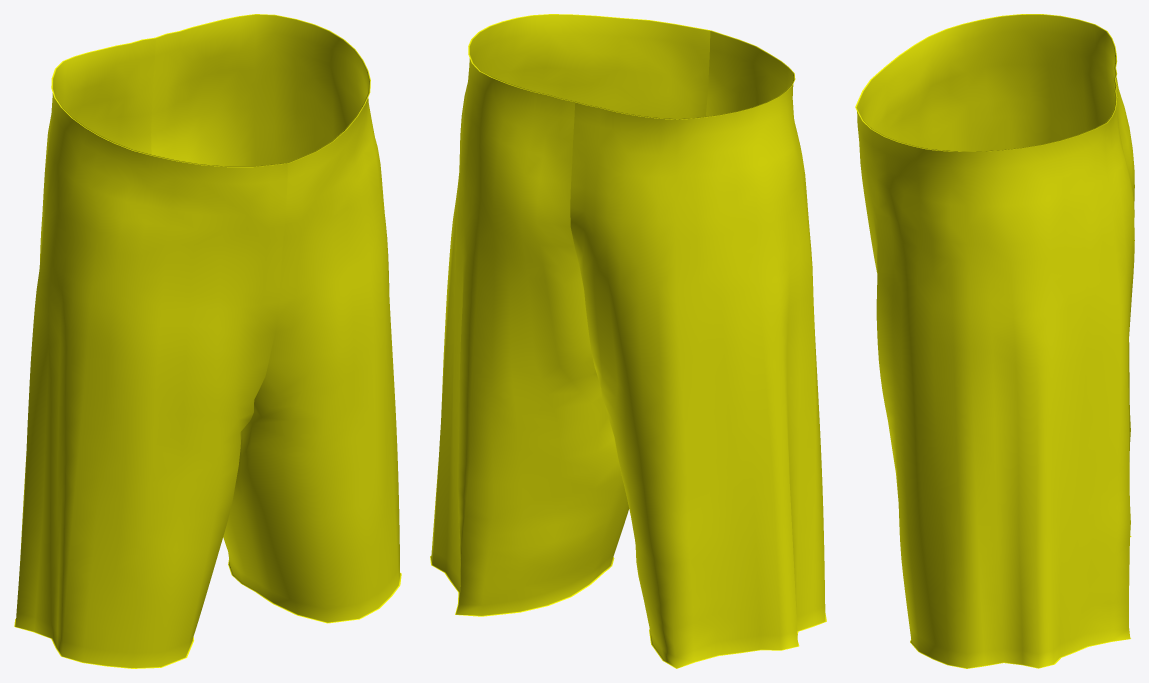
File: 4B3VTB.glb
The picture shows the model from 3 angles, left to right: view 1: azimuth 30°, elevation 25°; view 2: azimuth 150°, elevation 25°; view 3: azimuth 270°, elevation 25°; orthographic projection. The views are drawn at different scales.
Visible parts, largest first — view 1: 4B3VTB; view 2: 4B3VTB; view 3: 4B3VTB.
Part boxes in pixels (x1,y1,x2,y2): 4B3VTB: (14, 14, 401, 668); 4B3VTB: (430, 14, 826, 668); 4B3VTB: (855, 14, 1134, 668).
Size of what is drawn, in the model's own units: 0.672 by 0.9471 by 0.4633.
